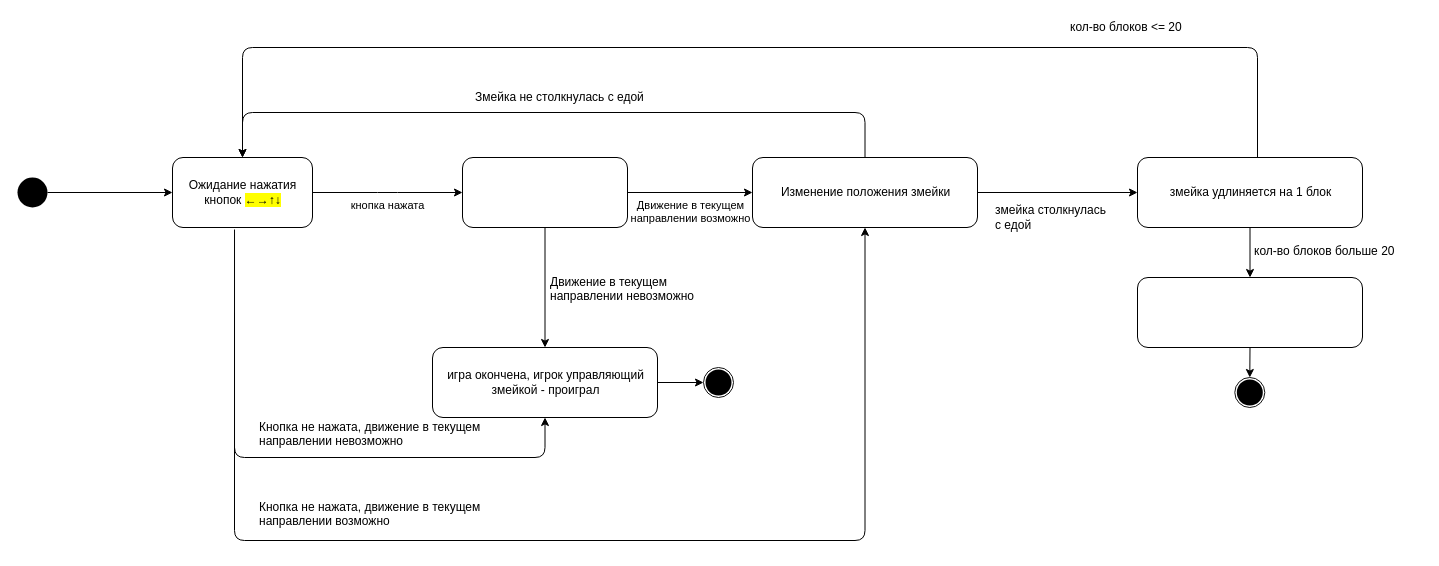
Image size: 1439x566. Some labels were removed from this diagram. Here are the shapes that lost their labels. From the top down, the centre of each, then its label:
At [545,192]: "Изменение направления".
At [1249,312]: "игра окончена, игрок управляющий змейкой - выиграл".
